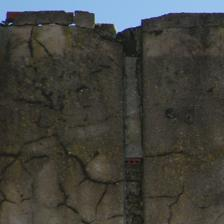Crack: (61, 137, 130, 207), (3, 134, 54, 179), (147, 184, 209, 221), (25, 29, 58, 67), (146, 150, 202, 164)
